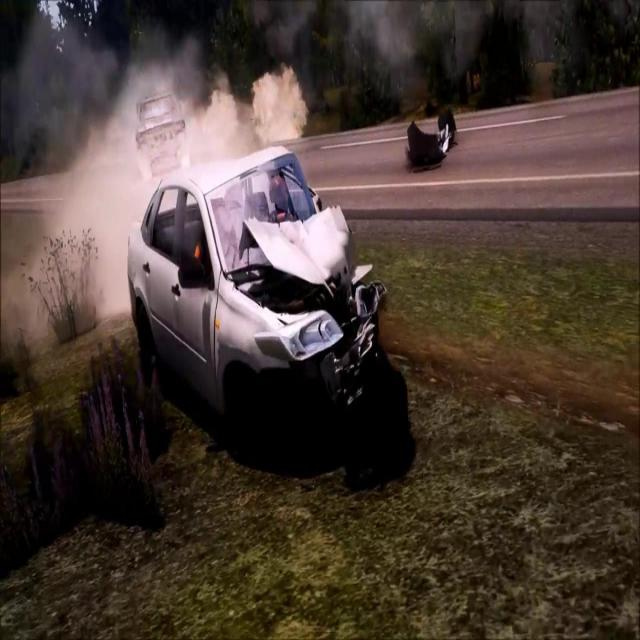accident: (122, 132, 391, 462)
